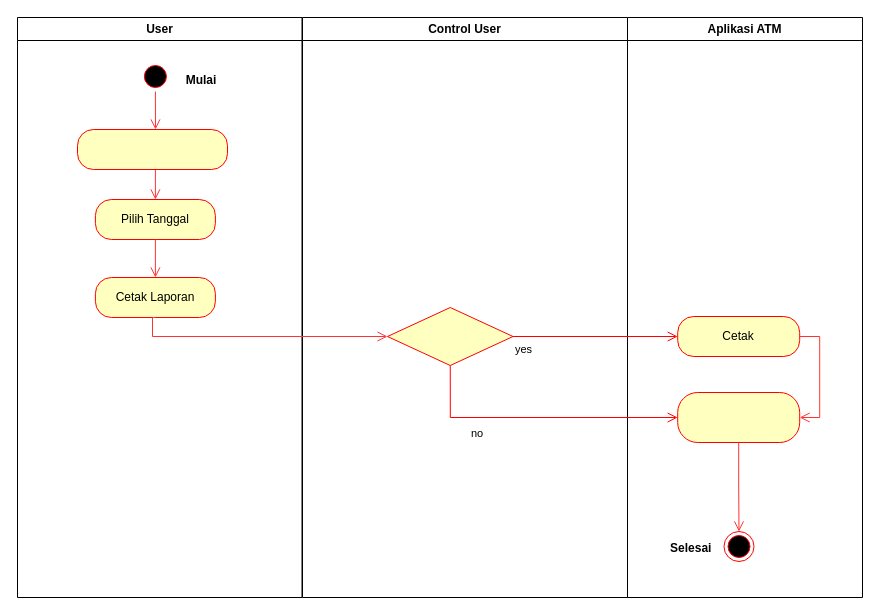
This 880x615 diagram has some shape labels left out. The shapes that lost their labels are listed below. From the top down, each one's box as (x1, y1, x2, y2) in pixels, then its label:
(76, 128, 228, 170): List Reporting Pergeseran antar Gudang
(386, 306, 513, 366): Print pdf
(677, 392, 800, 442): Menu Reporting Pergeseran antar Gudang
